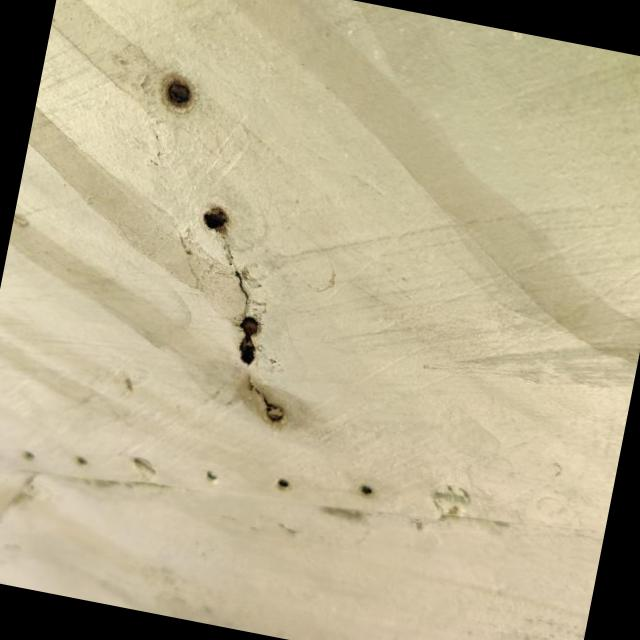Crack: (162, 200, 265, 367), (247, 376, 285, 425)
